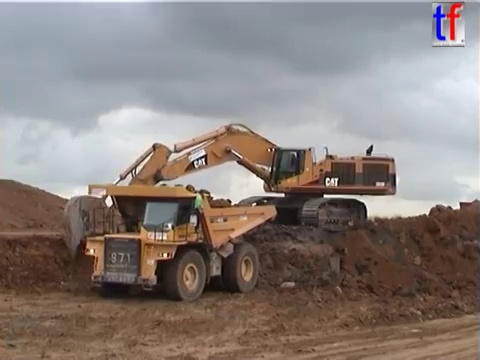excavator: (60, 121, 400, 261)
truck: (79, 182, 278, 302), (457, 199, 480, 221)
worker: (191, 187, 208, 233)
